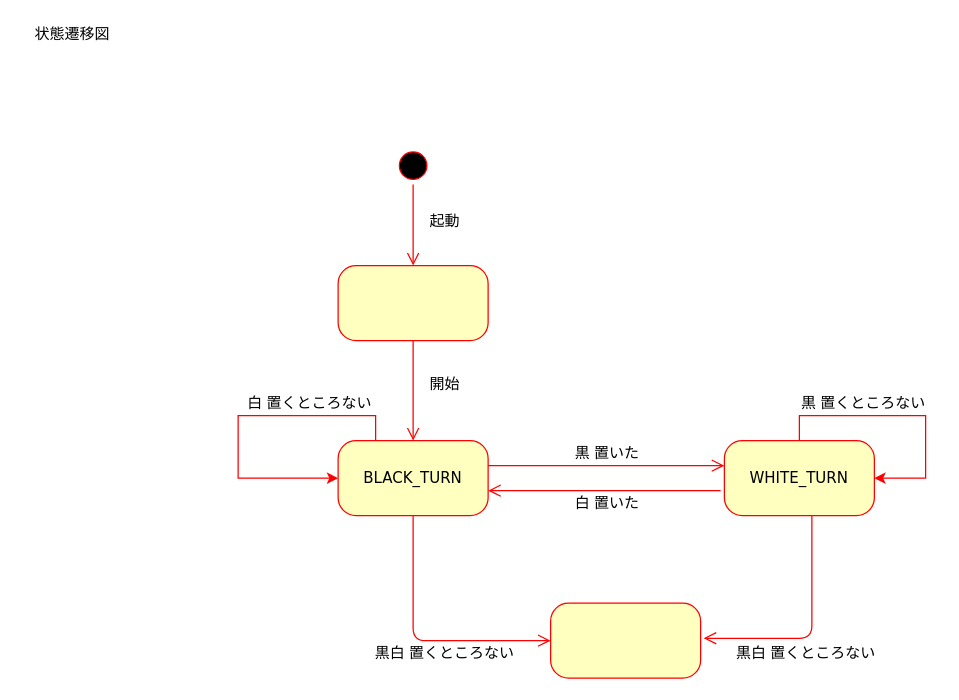
Image size: 959x700. Some labels were removed from this diagram. Here are the shapes that lost their labels. From the top down, the centre of each, then its label:
At [412,302]: "READY".
At [625,640]: "END".
